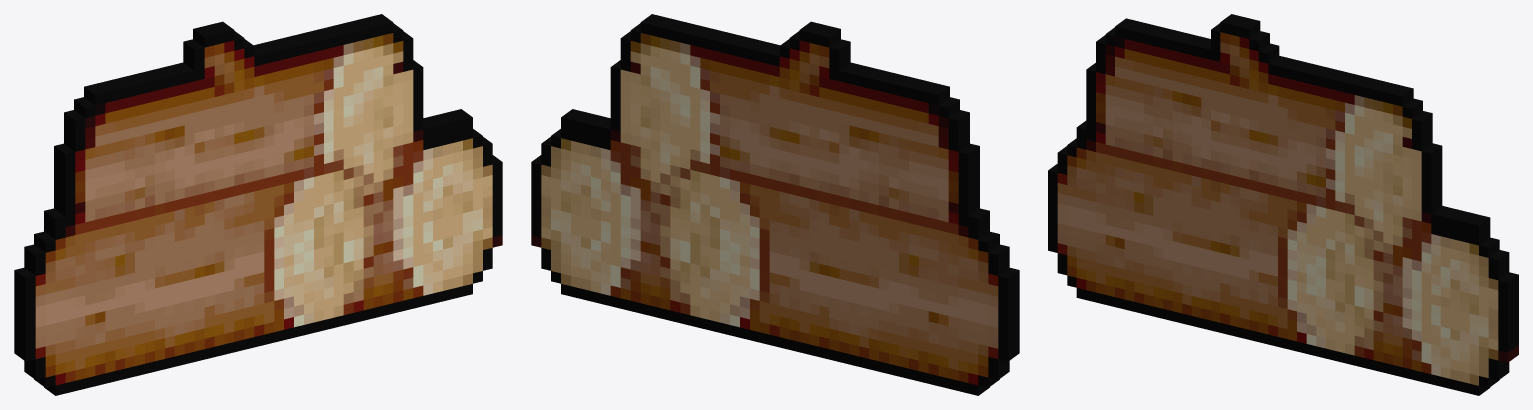
Rendered from AncientWood.fbx.
The picture shows the model from 3 angles, left to right: view 1: azimuth 30°, elevation 25°; view 2: azimuth 150°, elevation 25°; view 3: azimuth 330°, elevation 25°; orthographic projection. The views are drawn at different scales.
Visible parts, largest first — view 1: ancientwood; view 2: ancientwood; view 3: ancientwood.
Part boxes in pixels (box(x1,y1,x2,y2)): ancientwood: box(14, 14, 502, 395); ancientwood: box(531, 14, 1019, 395); ancientwood: box(1048, 14, 1518, 395).
Size of the model in its own units: 4700 by 3035 by 196.
